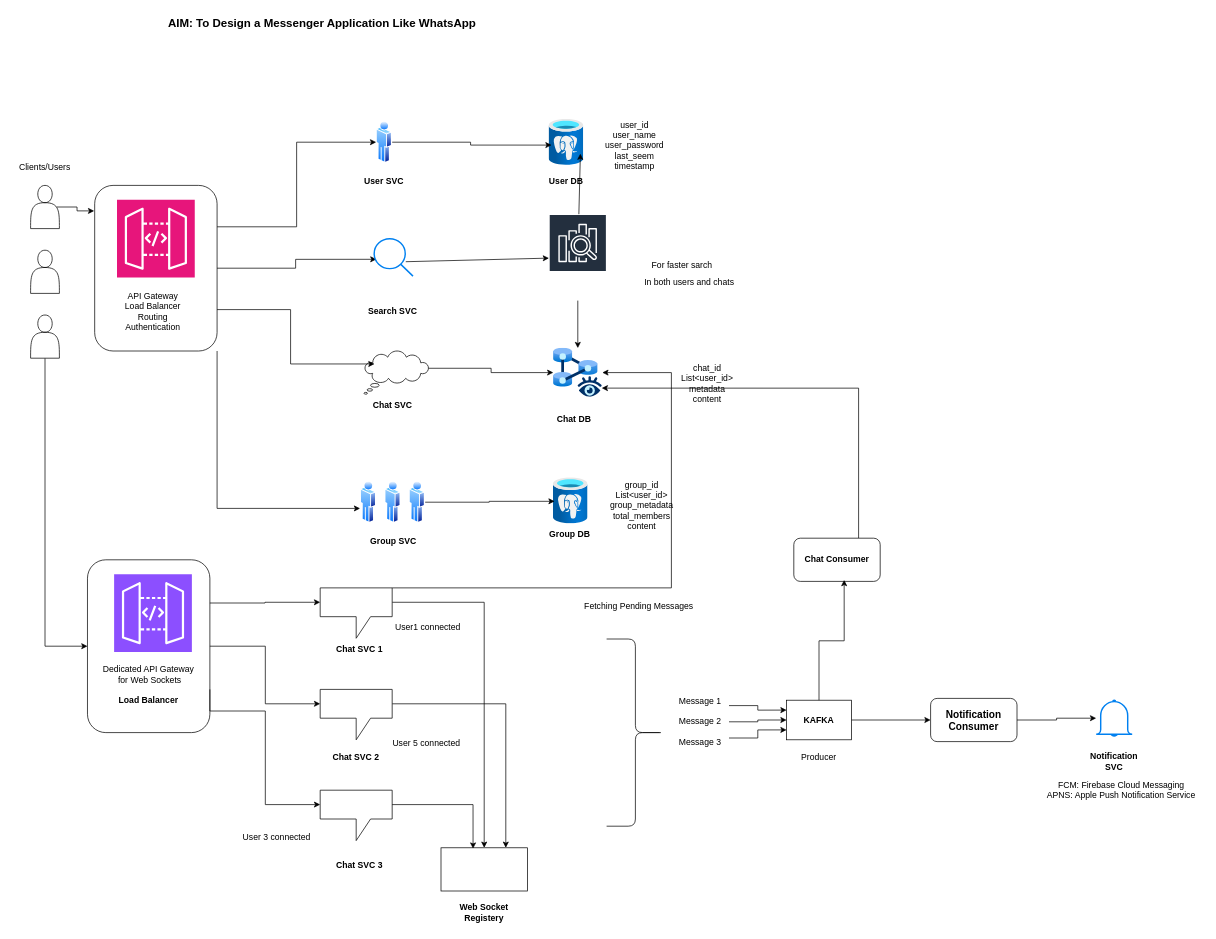
This 1216x939 diagram has some shape labels left out. The centre of each missing label's shape, as x and y in pixels:
"Amazon Elasticsearch Service" belongs at (577,257).
"User 1: WS1 User 2: WS2 User n: WSn" belongs at (483,869).
